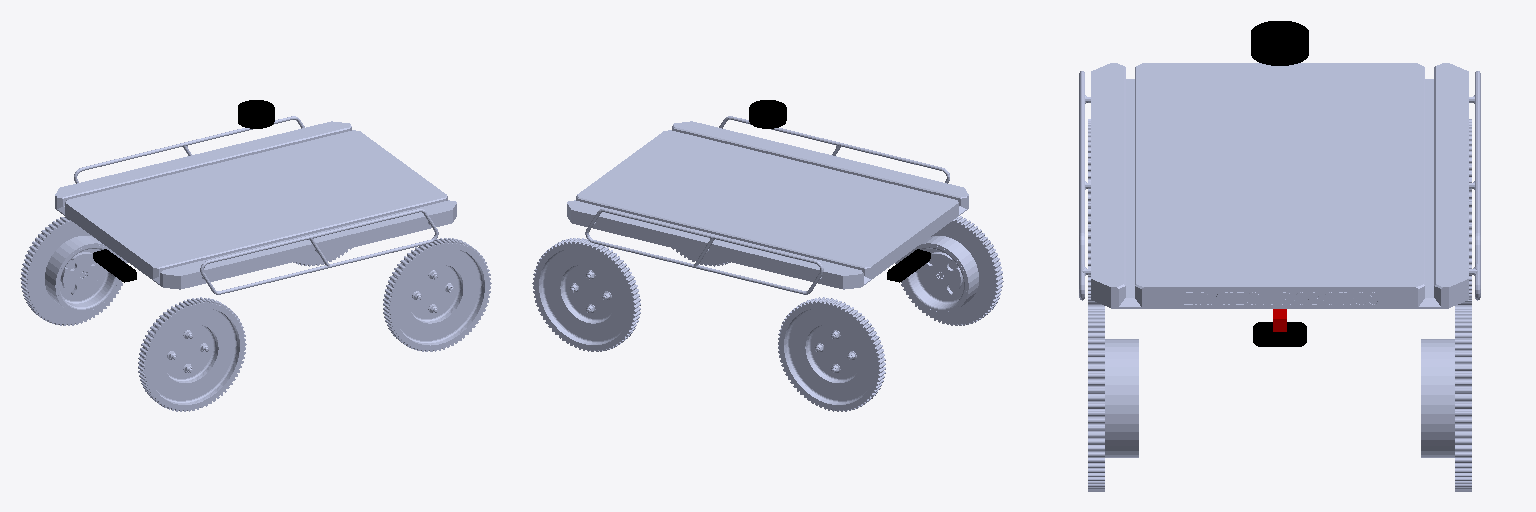
The robot description file, URDF, robot "cropMap_urdf":
<?xml version="1.0" ?> 
<robot name="cropMap_urdf" xmlns:xacro="http://www.ros.org/wiki/xacro"> 
  <!-- Gazebo plugin includes --> 
  <gazebo> 
    <plugin name="gazebo_ros_control" filename="libgazebo_ros_control.so"> 
      <robotNamespace>/cropMap_urdf</robotNamespace> 
      <robotSimType>gazebo_ros_control/DefaultRobotHWSim</robotSimType> 
    </plugin> 
  </gazebo> 
 
  <!-- Include Gazebo colors --> 
  <material name="dark_grey"> 
    <color rgba="0.3 0.3 0.3 1.0"/> 
  </material> 
  <material name="light_grey"> 
    <color rgba="0.79216 0.81961 0.93333 1"/> 
  </material> 
  <material name="blue"> 
    <color rgba="0.0 0.0 0.8 1.0"/> 
  </material> 
  <material name="black"> 
    <color rgba="0.0 0.0 0.0 1.0"/> 
  </material> 
  <material name="red"> 
    <color rgba="0.8 0.0 0.0 1.0"/> 
  </material> 
 
  <!-- Base Link --> 
  <link name="base_link"> 
    <inertial> 
      <origin xyz="0.018582 -0.00058815 -0.099852" rpy="0 0 0" /> 
      <mass value="32.31" /> 
      <inertia 
        ixx="0.92" ixy="0" ixz="0" 
        iyy="3.12" iyz="0" 
        izz="2.87" /> 
    </inertial> 
    <visual> 
      <origin xyz="0 0 0" rpy="0 0 0" /> 
      <geometry> 
        <mesh filename="package://cropMap_urdf/meshes/base_link.STL" /> 
      </geometry> 
      <material name="light_grey"/> 
    </visual> 
    <collision> 
      <origin xyz="0 0 0" rpy="0 0 0" /> 
      <geometry> 
        <mesh filename="package://cropMap_urdf/meshes/base_link.STL" /> 
      </geometry> 
    </collision> 
  </link> 
 
  <!-- Gazebo material for base_link --> 
  <gazebo reference="base_link"> 
    <material>Gazebo/Gray</material> 
  </gazebo> 
 
  <!-- Base footprint --> 
  <link name="base_footprint"/> 
  <joint name="base_footprint_ref_joint" type="fixed"> 
    <origin xyz="0 0 .25" rpy="0 0 0" /> 
    <parent link="base_footprint" /> 
    <child link="base_link" /> 
    <axis xyz="0 1 0" /> 
  </joint> 
 
  <!-- Front Right Wheel --> 
  <link name="wheel_front_right"> 
    <inertial> 
      <origin xyz="-3.8916E-11 0.012822 1.02E-07" rpy="0 0 0" /> 
      <mass value=".041" /> 
      <inertia 
        ixx="0.04" ixy="0.0" ixz="0.0" 
        iyy="0.05" iyz="0.0" 
        izz="0.04" /> 
    </inertial> 
    <visual> 
      <origin xyz="0 0 0" rpy="0 0 0" /> 
      <geometry> 
        <mesh filename="package://cropMap_urdf/meshes/wheel_front_right.STL" /> 
      </geometry> 
      <material name="light_grey"/> 
    </visual> 
    <collision> 
      <origin xyz="0 0 0" rpy="0 0 0" /> 
      <geometry> 
        <mesh filename="package://cropMap_urdf/meshes/wheel_front_right.STL" /> 
      </geometry> 
    </collision> 
  </link> 
 
  <joint name="wheel_front_right_joint" type="continuous"> 
    <origin xyz="0.37976 0.2802 -0.078259" rpy="0 0 0" /> 
    <parent link="base_link" /> 
    <child link="wheel_front_right" /> 
    <axis xyz="0 1 0" /> 
    <dynamics damping="0.0001" friction="0.0001" /> 
  </joint> 
 
  <!-- Gazebo plugin for front right wheel --> 
  <gazebo reference="wheel_front_right"> 
    <material>Gazebo/DarkGray</material> 
    <mu1>1.0</mu1> 
    <mu2>1.0</mu2> 
    <kp>1000000.0</kp> 
    <kd>100.0</kd> 
    <minDepth>0.001</minDepth> 
    <maxVel>1.0</maxVel> 
    <fdir1>1 0 0</fdir1> 
  </gazebo> 
 
  <!-- Back Right Wheel --> 
  <link name="wheel_back_right"> 
    <inertial> 
      <origin xyz="-3.8916E-11 0.012822 1.02E-07" rpy="0 0 0" /> 
      <mass value=".041" /> 
      <inertia 
        ixx="0.04" ixy="0.0" ixz="0.0" 
        iyy="0.05" iyz="0.0" 
        izz="0.04" /> 
    </inertial> 
    <visual> 
      <origin xyz="0 0 0" rpy="0 0 0" /> 
      <geometry> 
        <mesh filename="package://cropMap_urdf/meshes/wheel_back_right.STL" /> 
      </geometry> 
      <material name="light_grey"/> 
    </visual> 
    <collision> 
      <origin xyz="0 0 0" rpy="0 0 0" /> 
      <geometry> 
        <mesh filename="package://cropMap_urdf/meshes/wheel_back_right.STL" /> 
      </geometry> 
    </collision> 
  </link> 
 
  <joint name="wheel_back_right_joint" type="continuous"> 
    <origin xyz="-0.38026 0.2802 -0.078259" rpy="0 0 0" /> 
    <parent link="base_link" /> 
    <child link="wheel_back_right" /> 
    <axis xyz="0 1 0" /> 
    <dynamics damping="0.0001" friction="0.0001" /> 
  </joint> 
 
  <!-- Gazebo plugin for back right wheel --> 
  <gazebo reference="wheel_back_right"> 
    <material>Gazebo/DarkGray</material> 
    <mu1>1.0</mu1> 
    <mu2>1.0</mu2> 
    <kp>1000000.0</kp> 
    <kd>100.0</kd> 
    <minDepth>0.001</minDepth> 
    <maxVel>1.0</maxVel> 
    <fdir1>1 0 0</fdir1> 
  </gazebo> 
 
  <!-- Back Left Wheel --> 
  <link name="wheel_back_left"> 
    <inertial> 
      <origin xyz="-1.02E-07 -0.012822 3.8916E-11" rpy="0 0 0" /> 
      <mass value=".041" /> 
      <inertia 
        ixx="0.04" ixy="0.0" ixz="0.0" 
        iyy="0.05" iyz="0.0" 
        izz="0.04" /> 
    </inertial> 
    <visual> 
      <origin xyz="0 0 0" rpy="0 0 0" /> 
      <geometry> 
        <mesh filename="package://cropMap_urdf/meshes/wheel_back_left.STL" /> 
      </geometry> 
      <material name="light_grey"/> 
    </visual> 
    <collision> 
      <origin xyz="0 0 0" rpy="0 0 0" /> 
      <geometry> 
        <mesh filename="package://cropMap_urdf/meshes/wheel_back_left.STL" /> 
      </geometry> 
    </collision> 
  </link> 
 
  <joint name="wheel_back_left_joint" type="continuous"> 
    <origin xyz="-0.38026 -0.2802 -0.078259" rpy="0 0 0" /> 
    <parent link="base_link" /> 
    <child link="wheel_back_left" /> 
    <axis xyz="0 1 0" /> 
    <dynamics damping="0.0001" friction="0.0001" /> 
  </joint> 
 
  <!-- Gazebo plugin for back left wheel --> 
  <gazebo reference="wheel_back_left"> 
    <material>Gazebo/DarkGray</material> 
    <mu1>1.0</mu1> 
    <mu2>1.0</mu2> 
    <kp>1000000.0</kp> 
    <kd>100.0</kd> 
    <minDepth>0.001</minDepth> 
    <maxVel>1.0</maxVel> 
    <fdir1>1 0 0</fdir1> 
  </gazebo> 
 
  <!-- Front Left Wheel --> 
  <link name="wheel_front_left"> 
    <inertial> 
      <origin xyz="3.8916E-11 -0.012822 1.02E-07" rpy="0 0 0" /> 
      <mass value=".041" /> 
      <inertia 
        ixx="0.04" ixy="0.0" ixz="0.0" 
        iyy="0.05" iyz="0.0" 
        izz="0.04" /> 
    </inertial> 
    <visual> 
      <origin xyz="0 0 0" rpy="0 0 0" /> 
      <geometry> 
        <mesh filename="package://cropMap_urdf/meshes/wheel_front_left.STL" /> 
      </geometry> 
      <material name="light_grey"/> 
    </visual> 
    <collision> 
      <origin xyz="0 0 0" rpy="0 0 0" /> 
      <geometry> 
        <mesh filename="package://cropMap_urdf/meshes/wheel_front_left.STL" /> 
      </geometry> 
    </collision> 
  </link> 
 
  <joint name="wheel_front_left_joint" type="continuous"> 
    <origin xyz="0.37976 -0.2802 -0.078259" rpy="0 0 0" /> 
    <parent link="base_link" /> 
    <child link="wheel_front_left" /> 
    <axis xyz="0 1 0" /> 
    <dynamics damping="0.0001" friction="0.0001" /> 
  </joint> 
 
  <!-- Gazebo plugin for front left wheel --> 
  <gazebo reference="wheel_front_left"> 
    <material>Gazebo/DarkGray</material> 
    <mu1>1.0</mu1> 
    <mu2>1.0</mu2> 
    <kp>1000000.0</kp> 
    <kd>100.0</kd> 
    <minDepth>0.001</minDepth> 
    <maxVel>1.0</maxVel> 
    <fdir1>1 0 0</fdir1> 
  </gazebo> 
 
  <!-- Back Camera --> 
  <link name="back_camera"> 
    <inertial> 
      <origin xyz="-0.032487 0.0089676 -0.0027971" rpy="0 0 0" /> 
      <mass value="0.1" /> 
      <inertia 
        ixx="0.001" ixy="0.0" ixz="0.0" 
        iyy="0.001" iyz="0.0" 
        izz="0.001" /> 
    </inertial> 
    <visual> 
      <origin xyz="0 0 0" rpy="0 0 0" /> 
      <geometry> 
        <mesh filename="package://cropMap_urdf/meshes/back_camera.STL" /> 
      </geometry> 
      <material name="black"/> 
    </visual> 
  </link> 
 
  <joint name="back_camera_joint" type="fixed"> 
    <origin xyz="-0.40479 -0.0089685 0.073466" rpy="0 0 0" /> 
    <parent link="base_link" /> 
    <child link="back_camera" /> 
  </joint> 
 
  <!-- Gazebo plugin for back camera --> 
  <gazebo reference="back_camera"> 
    <material>Gazebo/Black</material> 
    <sensor type="camera" name="back_camera_sensor"> 
      <update_rate>30.0</update_rate> 
      <camera name="back_camera"> 
        <horizontal_fov>1.3962634</horizontal_fov> 
        <image> 
          <width>640</width> 
          <height>480</height> 
          <format>R8G8B8</format> 
        </image> 
        <clip> 
          <near>0.02</near> 
          <far>300</far> 
        </clip> 
        <noise> 
          <type>gaussian</type> 
          <mean>0.0</mean> 
          <stddev>0.007</stddev> 
        </noise> 
      </camera> 
      <plugin name="back_camera_controller" filename="libgazebo_ros_camera.so"> 
        <alwaysOn>true</alwaysOn> 
        <updateRate>0.0</updateRate> 
        <cameraName>cropMap/back_camera</cameraName> 
        <imageTopicName>image_raw</imageTopicName> 
        <cameraInfoTopicName>camera_info</cameraInfoTopicName> 
        <frameName>back_camera_dummy</frameName> 
        <hackBaseline>0.07</hackBaseline> 
        <distortionK1>0.0</distortionK1> 
        <distortionK2>0.0</distortionK2> 
        <distortionK3>0.0</distortionK3> 
        <distortionT1>0.0</distortionT1> 
        <distortionT2>0.0</distortionT2> 
      </plugin> 
    </sensor> 
  </gazebo> 
 
  <!-- Front Camera --> 
  <link name="front_camera"> 
    <inertial> 
      <origin xyz="0.012395 -0.012586 0.0091516" rpy="0 0 0" /> 
      <mass value="0.1" /> 
      <inertia 
        ixx="0.001" ixy="0.0" ixz="0.0" 
        iyy="0.001" iyz="0.0" 
        izz="0.001" /> 
    </inertial> 
    <visual> 
      <origin xyz="0 0 0" rpy="0 0 0" /> 
      <geometry> 
        <mesh filename="package://cropMap_urdf/meshes/front_camera.STL" /> 
      </geometry> 
      <material name="black"/> 
    </visual> 
  </link> 
 
  <joint name="front_camera_joint" type="fixed"> 
    <origin xyz="0.42423 0.0126 0.060602" rpy="0 0 0" /> 
    <parent link="base_link" /> 
    <child link="front_camera" /> 
  </joint> 
 
  <!-- Gazebo plugin for front camera --> 
  <gazebo reference="front_camera"> 
    <material>Gazebo/Black</material> 
    <sensor type="camera" name="front_camera_sensor"> 
      <update_rate>30.0</update_rate> 
      <camera name="front_camera"> 
        <horizontal_fov>1.3962634</horizontal_fov> 
        <image> 
          <width>640</width> 
          <height>480</height> 
          <format>R8G8B8</format> 
        </image> 
        <clip> 
          <near>0.02</near> 
          <far>300</far> 
        </clip> 
        <noise> 
          <type>gaussian</type> 
          <mean>0.0</mean> 
          <stddev>0.007</stddev> 
        </noise> 
      </camera> 
      <plugin name="front_camera_controller" filename="libgazebo_ros_camera.so"> 
        <alwaysOn>true</alwaysOn> 
        <updateRate>0.0</updateRate> 
        <cameraName>cropMap/front_camera</cameraName> 
        <imageTopicName>image_raw</imageTopicName> 
        <cameraInfoTopicName>camera_info</cameraInfoTopicName> 
        <frameName>front_camera_dummy</frameName> 
        <hackBaseline>0.07</hackBaseline> 
        <distortionK1>0.0</distortionK1> 
        <distortionK2>0.0</distortionK2> 
        <distortionK3>0.0</distortionK3> 
        <distortionT1>0.0</distortionT1> 
        <distortionT2>0.0</distortionT2> 
      </plugin> 
    </sensor> 
  </gazebo> 
 
  <!-- TC_V0 --> 
  <link name="TC_V0"> 
    <inertial> 
      <origin xyz="-7.5077E-05 -2.3538E-06 -0.015092" rpy="0 0 0" /> 
      <mass value="14.01" /> 
      <inertia 
        ixx="0.66" ixy="0.0" ixz="0.0" 
        iyy="1.01" iyz="0.0" 
        izz="1.66" /> 
    </inertial> 
    <visual> 
      <origin xyz="0 0 0" rpy="0 0 0" /> 
      <geometry> 
        <mesh filename="package://cropMap_urdf/meshes/TC_V0.STL" /> 
      </geometry> 
      <material name="light_grey"/> 
    </visual> 
    <collision> 
      <origin xyz="0 0 0" rpy="0 0 0" /> 
      <geometry> 
        <mesh filename="package://cropMap_urdf/meshes/TC_V0.STL" /> 
      </geometry> 
    </collision> 
  </link> 
 
  <joint name="TC_V0_joint" type="fixed"> 
    <origin xyz="0 0 0.16825" rpy="0 0 0" /> 
    <parent link="base_link" /> 
    <child link="TC_V0" /> 
  </joint> 
 
  <gazebo reference="TC_V0"> 
    <material>Gazebo/Gray</material> 
  </gazebo> 
 
  <!-- Camera dummy frames --> 
  <link name="front_camera_dummy"/> 
  <joint name="front_camera_dummy_joint" type="fixed"> 
    <origin xyz="0 0 0" rpy="-1.5708 0 -1.5708" /> 
    <parent link="front_camera" /> 
    <child link="front_camera_dummy" /> 
    <axis xyz="1 0 0" /> 
  </joint> 
 
  <link name="back_camera_dummy"/> 
  <joint name="back_camera_dummy_joint" type="fixed"> 
    <origin xyz="0 0 0" rpy="-1.5708 0 1.5708" /> 
    <parent link="back_camera" /> 
    <child link="back_camera_dummy" /> 
    <axis xyz="1 0 0" /> 
  </joint> 
 
  <!-- Add RGB-D Sensor --> 
  <link name="rgbd_camera_link"> 
    <inertial> 
      <origin xyz="0 0 0" rpy="0 0 0" /> 
      <mass value="0.125" /> 
      <inertia 
        ixx="0.001" ixy="0.0" ixz="0.0" 
        iyy="0.001" iyz="0.0" 
        izz="0.001" /> 
    </inertial> 
    <visual> 
      <origin xyz="0 0 0" rpy="0 0 0" /> 
      <geometry> 
        <box size="0.07 0.025 0.025"/> 
      </geometry> 
      <material name="red"/> 
    </visual> 
    <collision> 
      <origin xyz="0 0 0" rpy="0 0 0" /> 
      <geometry> 
        <box size="0.07 0.025 0.025"/> 
      </geometry> 
    </collision> 
  </link> 
 
  <joint name="rgbd_camera_joint" type="fixed"> 
    <origin xyz="0.43 0 0.1" rpy="0 0 0" /> 
    <parent link="base_link" /> 
    <child link="rgbd_camera_link" /> 
  </joint> 
 
  <!-- RGB-D Camera Gazebo Plugin --> 
  <gazebo reference="rgbd_camera_link"> 
    <material>Gazebo/Red</material> 
    <sensor type="depth" name="rgbd_camera"> 
      <update_rate>20.0</update_rate> 
      <camera name="depth"> 
        <horizontal_fov>1.047198</horizontal_fov> 
        <image> 
          <width>640</width> 
          <height>480</height> 
          <format>R8G8B8</format> 
        </image> 
        <clip> 
          <near>0.05</near> 
          <far>8.0</far> 
        </clip> 
        <noise> 
          <type>gaussian</type> 
          <mean>0.0</mean> 
          <stddev>0.007</stddev> 
        </noise> 
      </camera> 
      <plugin name="rgbd_camera_controller" filename="libgazebo_ros_openni_kinect.so"> 
        <baseline>0.2</baseline> 
        <alwaysOn>true</alwaysOn> 
        <updateRate>0.0</updateRate> 
        <cameraName>cropMap/rgbd_camera</cameraName> 
        <imageTopicName>rgb/image_raw</imageTopicName> 
        <cameraInfoTopicName>rgb/camera_info</cameraInfoTopicName> 
        <depthImageTopicName>depth/image_raw</depthImageTopicName> 
        <depthImageInfoTopicName>depth/camera_info</depthImageInfoTopicName> 
        <pointCloudTopicName>depth/points</pointCloudTopicName> 
        <frameName>rgbd_camera_optical_frame</frameName> 
        <pointCloudCutoff>0.5</pointCloudCutoff> 
        <pointCloudCutoffMax>8.0</pointCloudCutoffMax> 
        <distortionK1>0.00000001</distortionK1> 
        <distortionK2>0.00000001</distortionK2> 
        <distortionK3>0.00000001</distortionK3> 
        <distortionT1>0.00000001</distortionT1> 
        <distortionT2>0.00000001</distortionT2> 
        <CxPrime>0</CxPrime> 
        <Cx>0</Cx> 
        <Cy>0</Cy> 
        <focalLength>0</focalLength> 
        <hackBaseline>0</hackBaseline> 
      </plugin> 
    </sensor> 
  </gazebo> 
 
  <!-- RGB-D Camera Optical Frame --> 
  <link name="rgbd_camera_optical_frame"/> 
  <joint name="rgbd_camera_optical_joint" type="fixed"> 
    <origin xyz="0 0 0" rpy="-1.5708 0 -1.5708" /> 
    <parent link="rgbd_camera_link" /> 
    <child link="rgbd_camera_optical_frame" /> 
  </joint> 
 
  <!-- Add LiDAR sensor --> 
  <link name="lidar_link"> 
    <inertial> 
      <origin xyz="0 0 0" rpy="0 0 0" /> 
      <mass value="0.1" /> 
      <inertia 
        ixx="0.001" ixy="0.0" ixz="0.0" 
        iyy="0.001" iyz="0.0" 
        izz="0.001" /> 
    </inertial> 
    <visual> 
      <origin xyz="0 0 0" rpy="0 0 0" /> 
      <geometry> 
        <cylinder radius="0.05" length="0.04"/> 
      </geometry> 
      <material name="black"/> 
    </visual> 
    <collision> 
      <origin xyz="0 0 0" rpy="0 0 0" /> 
      <geometry> 
        <cylinder radius="0.05" length="0.04"/> 
      </geometry> 
    </collision> 
  </link> 
 
  <joint name="lidar_joint" type="fixed"> 
    <origin xyz="0 0 0.25" rpy="0 0 0" /> 
    <parent link="TC_V0" /> 
    <child link="lidar_link" /> 
  </joint> 
 
  <!-- Gazebo plugin for LiDAR --> 
  <gazebo reference="lidar_link"> 
    <material>Gazebo/Black</material> 
    <sensor type="ray" name="lidar_sensor"> 
      <pose>0 0 0 0 0 0</pose> 
      <visualize>true</visualize> 
      <update_rate>10</update_rate> 
      <ray> 
        <scan> 
          <horizontal> 
            <samples>360</samples> 
            <resolution>1</resolution> 
            <min_angle>-3.14159</min_angle> 
            <max_angle>3.14159</max_angle> 
          </horizontal> 
        </scan> 
        <range> 
          <min>0.1</min> 
          <max>30.0</max> 
          <resolution>0.01</resolution> 
        </range> 
        <noise> 
          <type>gaussian</type> 
          <mean>0.0</mean> 
          <stddev>0.01</stddev> 
        </noise> 
      </ray> 
      <plugin name="lidar_controller" filename="libgazebo_ros_ray_sensor.so"> 
        <ros> 
          <namespace>/cropMap</namespace> 
          <remapping>~/out:=scan</remapping> 
        </ros> 
        <output_type>sensor_msgs/LaserScan</output_type> 
        <frame_name>lidar_link</frame_name> 
      </plugin> 
    </sensor> 
  </gazebo> 
 
  <!-- Skid Steering Drive Controller --> 
  <gazebo> 
    <plugin name="skid_steer_drive_controller" filename="libgazebo_ros_skid_steer_drive.so"> 
      <updateRate>50.0</updateRate> 
      <robotNamespace>/cropMap</robotNamespace> 
      <leftFrontJoint>wheel_front_left_joint</leftFrontJoint> 
      <rightFrontJoint>wheel_front_right_joint</rightFrontJoint> 
      <leftRearJoint>wheel_back_left_joint</leftRearJoint> 
      <rightRearJoint>wheel_back_right_joint</rightRearJoint> 
      <wheelSeparation>0.5604</wheelSeparation> 
      <wheelDiameter>0.2</wheelDiameter> 
      <robotBaseFrame>base_link</robotBaseFrame> 
      <torque>20</torque> 
      <topicName>cmd_vel</topicName> 
      <broadcastTF>true</broadcastTF> 
      <odometryTopic>odom</odometryTopic> 
      <odometryFrame>odom</odometryFrame> 
      <covariance_x>0.0001</covariance_x> 
      <covariance_y>0.0001</covariance_y> 
      <covariance_yaw>0.01</covariance_yaw> 
    </plugin> 
  </gazebo> 
 
  <!-- IMU Sensor --> 
  <link name="imu_link"> 
    <inertial> 
      <mass value="0.01"/> 
      <origin xyz="0 0 0" rpy="0 0 0"/> 
      <inertia ixx="0.0001" ixy="0" ixz="0" iyy="0.0001" iyz="0" izz="0.0001"/> 
    </inertial> 
    <visual> 
      <origin xyz="0 0 0" rpy="0 0 0"/> 
      <geometry> 
        <box size="0.02 0.02 0.01"/> 
      </geometry> 
      <material name="blue"/> 
    </visual> 
    <collision> 
      <origin xyz="0 0 0" rpy="0 0 0"/> 
      <geometry> 
        <box size="0.02 0.02 0.01"/> 
      </geometry> 
    </collision> 
  </link> 
 
  <joint name="imu_joint" type="fixed"> 
    <parent link="base_link"/> 
    <child link="imu_link"/> 
    <origin xyz="0 0 0.1" rpy="0 0 0"/> 
  </joint> 
 
  <gazebo reference="imu_link"> 
    <material>Gazebo/Blue</material> 
    <gravity>true</gravity> 
    <sensor name="imu_sensor" type="imu"> 
      <always_on>true</always_on> 
      <update_rate>100</update_rate> 
      <visualize>true</visualize> 
      <topic>__default_topic__</topic> 
      <plugin filename="libgazebo_ros_imu_sensor.so" name="imu_plugin"> 
        <topicName>imu</topicName> 
        <bodyName>imu_link</bodyName> 
        <updateRateHZ>100.0</updateRateHZ> 
        <gaussianNoise>0.0</gaussianNoise> 
        <xyzOffset>0 0 0</xyzOffset> 
        <rpyOffset>0 0 0</rpyOffset> 
        <frameName>imu_link</frameName> 
        <initialOrientationAsReference>false</initialOrientationAsReference> 
      </plugin> 
      <pose>0 0 0 0 0 0</pose> 
    </sensor> 
  </gazebo> 
</robot> 

--- What the picture shows (computed from the rendered views, not written in the file) ---
3 views of the same robot in one strip: view 1: azimuth 30°, elevation 25°; view 2: azimuth 150°, elevation 25°; view 3: azimuth 270°, elevation 25° (orthographic).
Model cropMap_urdf with 15 links and 14 joints (4 continuous, 10 fixed), rooted at base_footprint, posed every joint at zero.
Links seen in each view (by area): view 1: TC_V0, wheel_back_left, wheel_front_left, wheel_back_right, lidar_link, back_camera; view 2: TC_V0, wheel_back_right, wheel_front_right, wheel_back_left, lidar_link, back_camera; view 3: TC_V0, wheel_front_right, wheel_front_left, lidar_link, front_camera, wheel_back_right, wheel_back_left.
Boxes of the visible links, x1,y1,x2,y2 form: TC_V0: [55, 116, 456, 294]; wheel_back_left: [138, 297, 246, 411]; wheel_front_left: [383, 238, 491, 351]; wheel_back_right: [20, 216, 127, 325]; lidar_link: [238, 100, 274, 128]; back_camera: [93, 249, 136, 282]; TC_V0: [567, 116, 968, 294]; wheel_back_right: [778, 297, 885, 411]; wheel_front_right: [532, 238, 640, 351]; wheel_back_left: [895, 216, 1003, 325]; lidar_link: [749, 100, 786, 128]; back_camera: [887, 249, 930, 282]; TC_V0: [1079, 63, 1480, 308]; wheel_front_right: [1421, 305, 1471, 491]; wheel_front_left: [1088, 305, 1138, 491]; lidar_link: [1251, 21, 1308, 65]; front_camera: [1253, 322, 1306, 346]; wheel_back_right: [1458, 119, 1471, 304]; wheel_back_left: [1088, 119, 1101, 304].
Bounding box of the posed robot: 1.08 × 0.69 × 0.6765 m (x, y, z).
Meshes: 8 distinct files referenced, 7 mesh visuals loaded (7 binary STL); not drawn: 1 (reference not matched to a file when rendering).